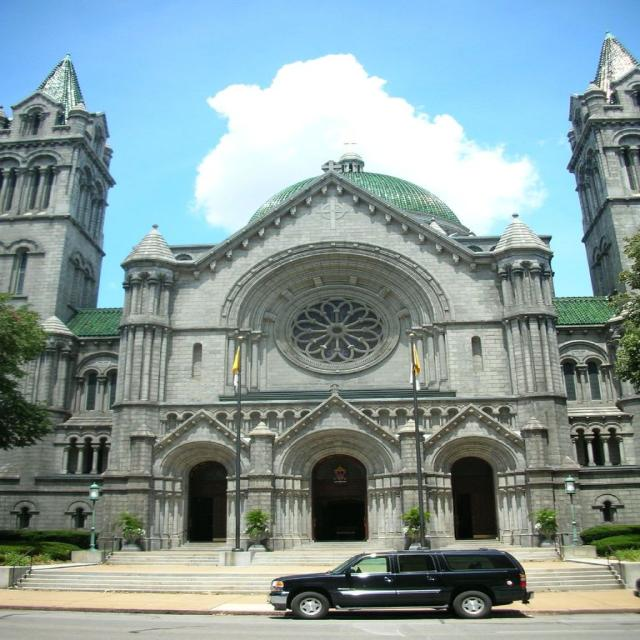car: (269, 548, 533, 619)
